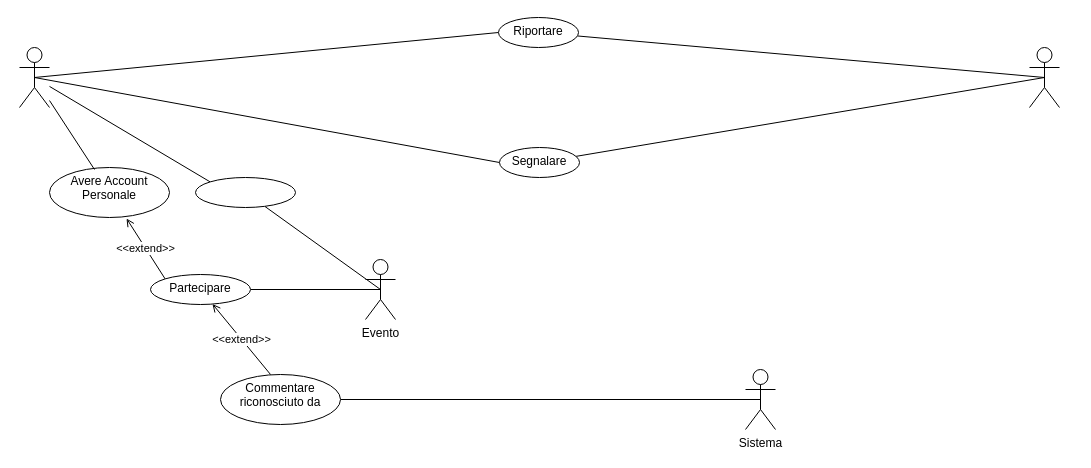
Image size: 1091x468. Some labels were removed from this diagram. The shapes that lost their labels are listed below. From the top down, each one's centre as x and y in pixels, then its label:
[34,77]: Utente
[1044,77]: Commento
[245,192]: Commentare
